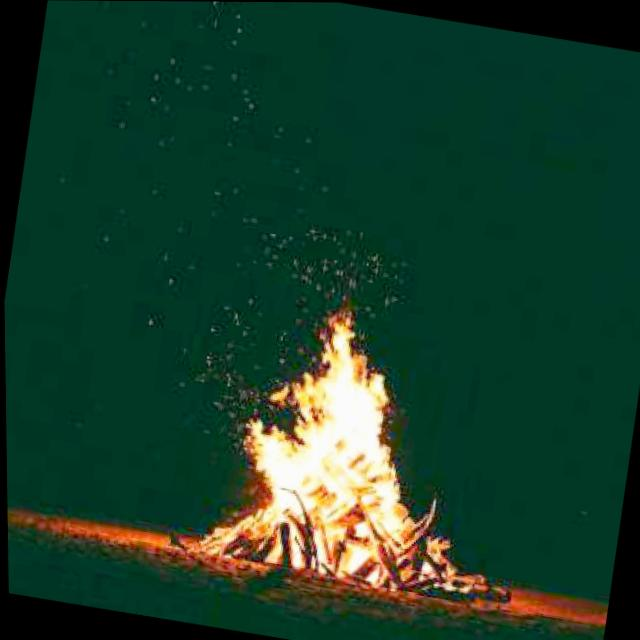helmet: (204, 289, 448, 582)
